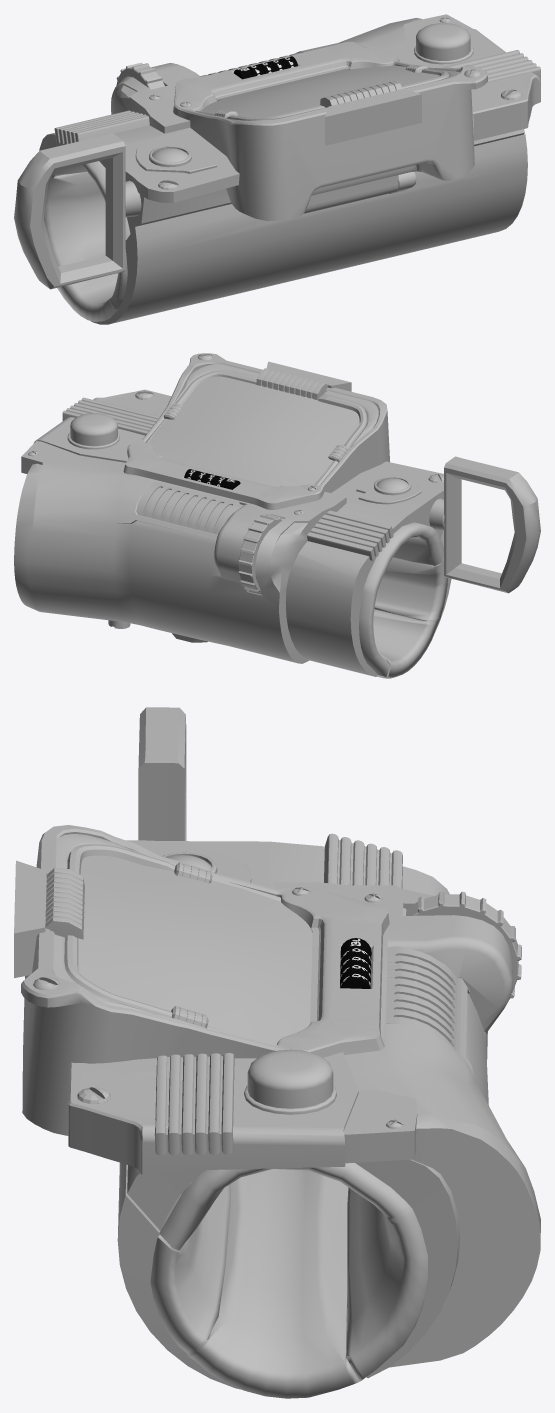
Rendered from Pipboi.fbx.
3 views of the same model, one above another, from view 1: azimuth 30°, elevation 25°; view 2: azimuth 150°, elevation 25°; view 3: azimuth 270°, elevation 25° (orthographic). The views are drawn at different scales.
Visible parts, largest first — view 1: Base, Pull, Screen_low, Push_button, Hologram, Thumb_Button; view 2: Base, Screen_low, Pull, Thumb_Button, Push_button, Hologram; view 3: Base, Screen_low, Pull, Push_button, Thumb_Button.
Part boxes in pixels (x1,y1,x2,y2): Base: (39, 14, 540, 324); Pull: (14, 133, 125, 289); Screen_low: (200, 65, 439, 117); Push_button: (416, 23, 470, 60); Hologram: (149, 146, 191, 167); Thumb_Button: (115, 62, 164, 89); Base: (14, 353, 451, 678); Screen_low: (146, 376, 359, 486); Pull: (444, 456, 540, 593); Thumb_Button: (238, 513, 283, 594); Push_button: (70, 413, 117, 446); Hologram: (374, 477, 411, 495); Base: (14, 825, 540, 1398); Screen_low: (78, 855, 312, 1045); Pull: (138, 707, 186, 840); Push_button: (247, 1049, 333, 1108); Thumb_Button: (403, 891, 521, 998).
Size of the model in its own units: 35.86 by 15.52 by 20.15.
